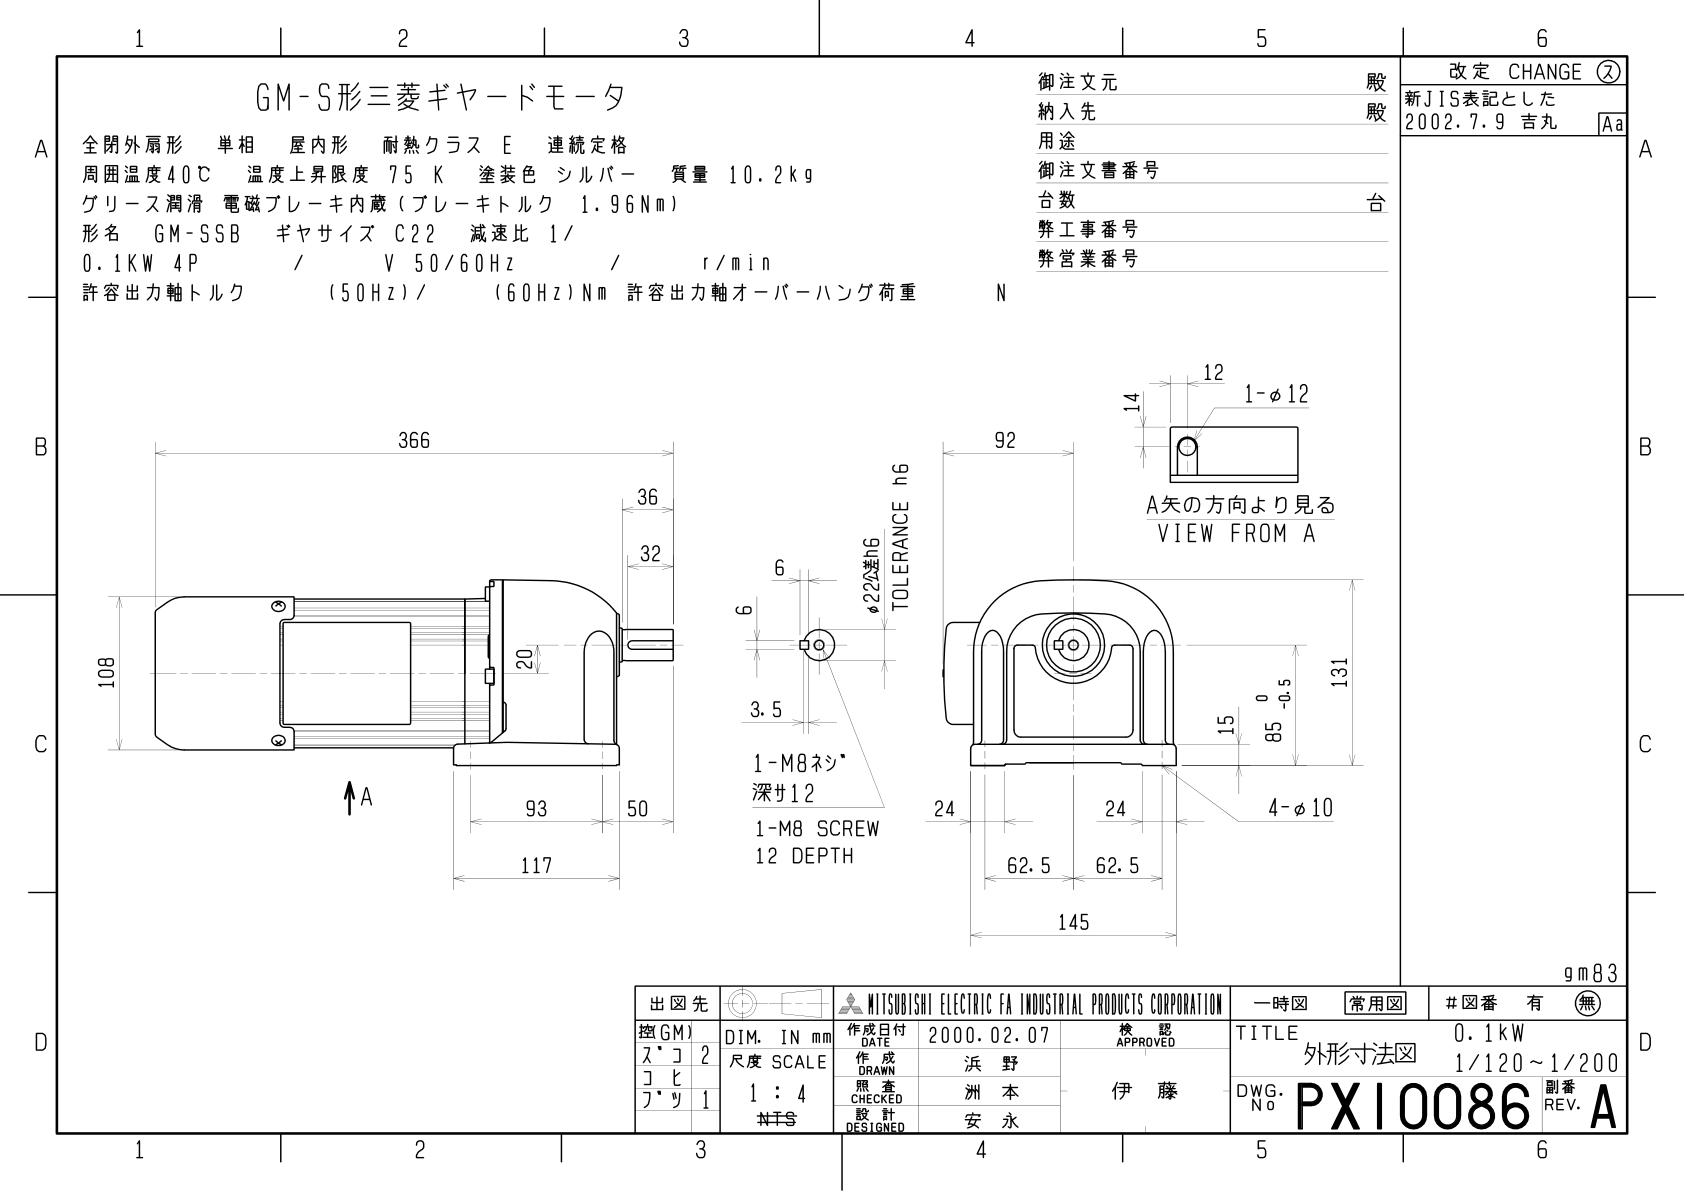GM_S_屋内＿三相_脚: (73, 343, 1381, 963)
